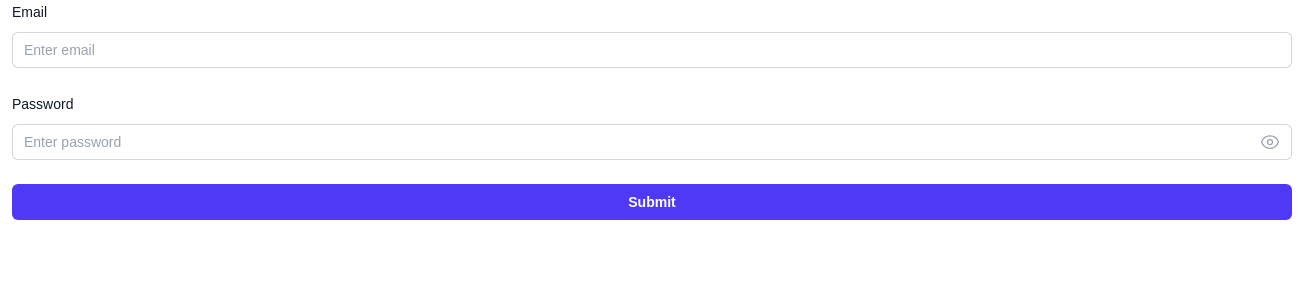
Test case: Form Component › Error Display › clears errors when valid data is entered
The image size is (1304, 293).
# Submit to trigger errors
Click the button "Submit" at (652, 202), box [12,184,1292,220]
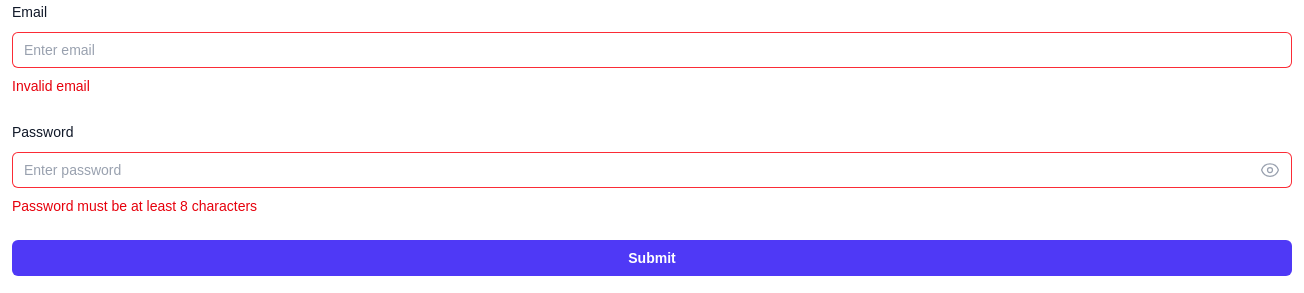
Expected: the text "Invalid email" is shown, [12,78,90,94]
# Enter valid email
Type "test@example.com" into the field labelled "Email" at (652, 50), box [12,32,1292,68]
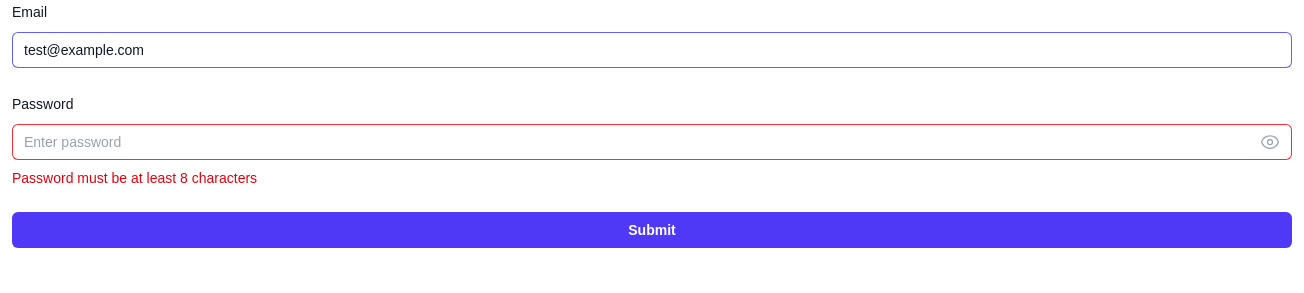
Expected: the text "Invalid email" is gone
